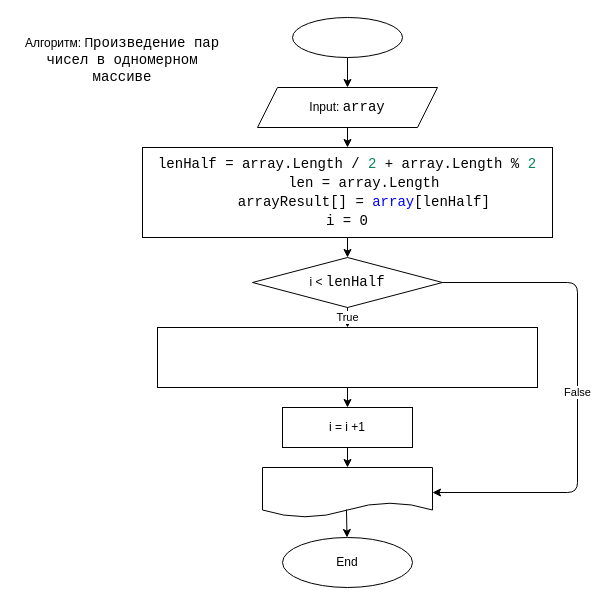
The diagram is 608 pixels wide and 605 high, and some of its shapes have lost their labels. The centre of each missing label's shape, as x and y in pixels:
"arrayResult[i] = array[i] * array[len - i - 1 ]" belongs at point 347,357.
"Output: arrayResult" belongs at point 347,492.
"Start" belongs at point 347,37.
